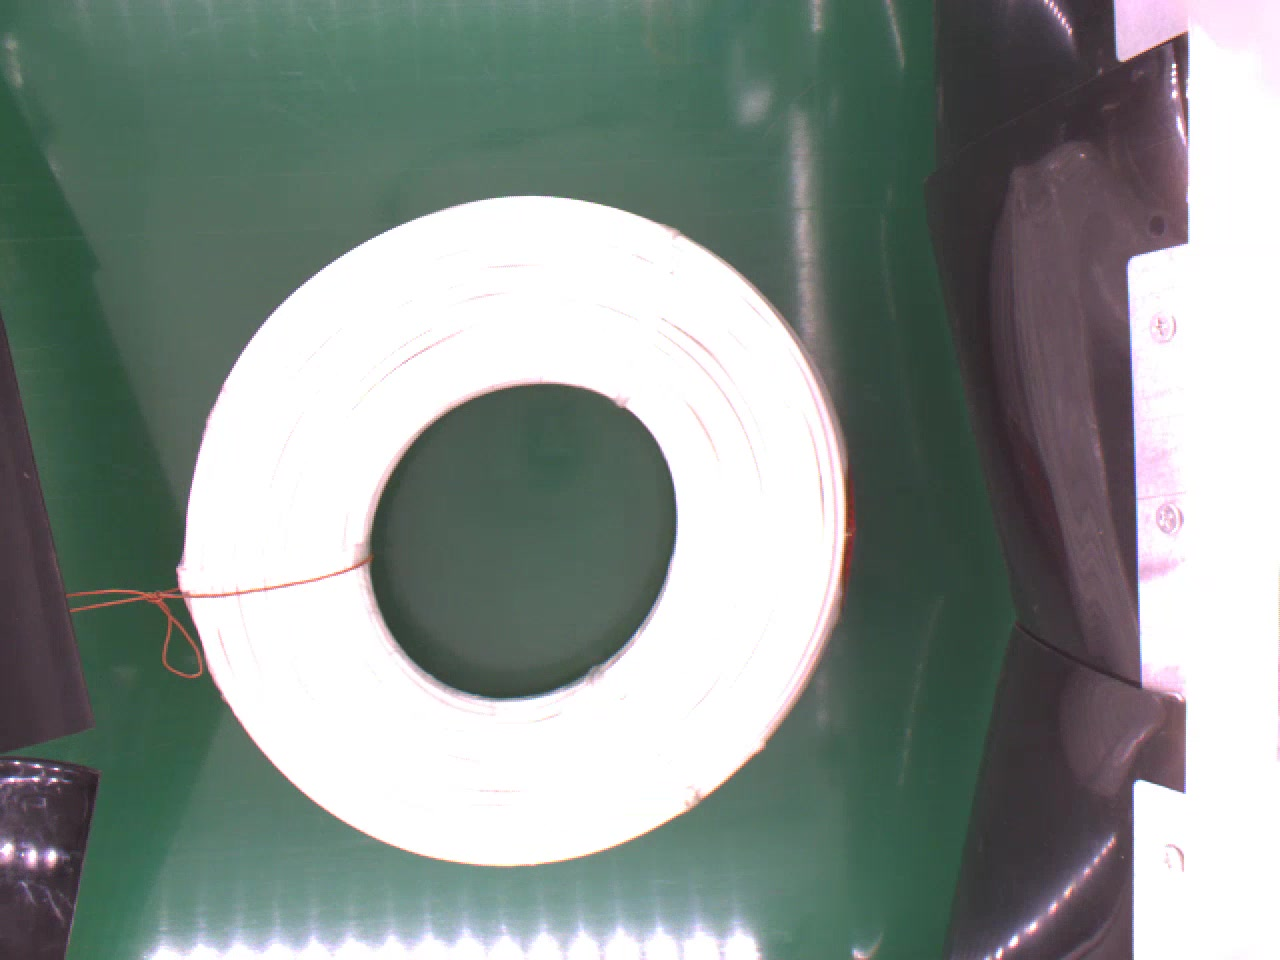white: (165, 192, 849, 876)
